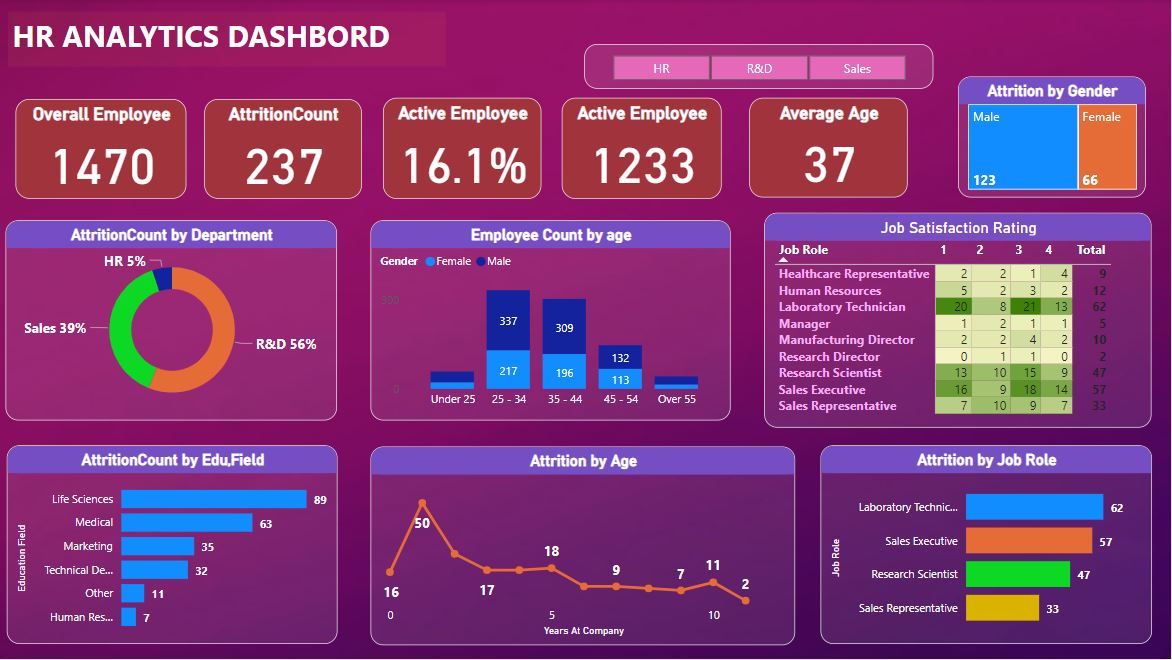

This screenshot's page, from the dashboard's own definition file:
{"tool":"powerbi","page":{"name":"Page 1","canvas":[1280,720],"ordinal":0},"visuals":[{"type":"card","title":"Overall Employee","fields":{"Values":["Sum(HR data.Employee Count)"]},"box":[19.1,109.1,186.8,109.1],"z":0},{"type":"card","title":"AttritionCount","fields":{"Values":["Sum(HR data.AttritionCount)"]},"box":[225,109.1,171.8,109.1],"z":1000},{"type":"card","title":"Active Employee","fields":{"Values":["HR data.Attrition Rate"]},"box":[419.9,107.7,173.2,110.4],"z":2000},{"type":"card","title":"Active Employee","fields":{"Values":["HR data.Active Employee"]},"box":[614.9,107.7,174.5,110.4],"z":3000},{"type":"card","title":"Average Age","fields":{"Values":["Avg(HR data.Age)"]},"box":[819.4,107.7,173.2,109.1],"z":4000},{"type":"donutChart","title":" AttritionCount by Department","fields":{"Category":["HR data.Department"],"Y":["Sum(HR data.AttritionCount)"]},"box":[8.2,233.1,361.3,218.2],"z":5000},{"type":"columnChart","title":"Employee Count by age ","fields":{"Category":["HR data.CF_age band"],"Series":["HR data.Gender"],"Y":["Sum(HR data.Employee Count)"]},"box":[406.3,241.3,392.7,218.2],"z":6000},{"type":"pivotTable","title":"Job Satisfaction Rating","fields":{"Rows":["HR data.Job Role"],"Columns":["HR data.Job Satisfaction"],"Values":["Sum(HR data.AttritionCount)"]},"box":[835.8,233.1,422.7,234.5],"z":7000},{"type":"barChart","title":" AttritionCount by Edu,Field","fields":{"Category":["HR data.Education Field"],"Y":["Sum(HR data.AttritionCount)"]},"box":[9.6,487.1,360.9,216.8],"z":8000},{"type":"barChart","title":" Attrition by Job Role","fields":{"Y":["Sum(HR data.AttritionCount)"],"Category":["HR data.Job Role"]},"box":[897.1,486.8,361.3,216.8],"z":9000},{"type":"lineChart","title":" Attrition by Age","fields":{"Category":["HR data.Years At Company"],"Y":["Sum(HR data.AttritionCount)"]},"box":[406.3,488.1,463.6,216.8],"z":10000},{"type":"treemap","title":" Attrition by Gender","fields":{"Group":["HR data.Gender"],"Values":["Sum(HR data.AttritionCount)"]},"box":[1047.1,84.5,204.5,132.3],"z":11000},{"type":"slicer","fields":{"Values":["HR data.Department"]},"box":[639.5,49.1,380.4,49.1],"z":12000},{"type":"textbox","box":[10.9,13.6,477.2,60],"z":12005}]}

Visuals, with their boxes in screenshot pixels (x1, y1, x2, y2), scaled from the page's 1280x720 canvas onto the 1172x660 screenshot:
"Overall Employee" card: select_region(17, 100, 189, 200)
"AttritionCount" card: select_region(206, 100, 363, 200)
"Active Employee" card: select_region(384, 99, 543, 200)
"Active Employee" card: select_region(563, 99, 723, 200)
"Average Age" card: select_region(750, 99, 909, 199)
" AttritionCount by Department" donutChart: select_region(8, 214, 338, 414)
"Employee Count by age " columnChart: select_region(372, 221, 732, 421)
"Job Satisfaction Rating" pivotTable: select_region(765, 214, 1152, 429)
" AttritionCount by Edu,Field" barChart: select_region(9, 447, 339, 645)
" Attrition by Job Role" barChart: select_region(821, 446, 1152, 645)
" Attrition by Age" lineChart: select_region(372, 447, 797, 646)
" Attrition by Gender" treemap: select_region(959, 77, 1146, 199)
slicer - HR data.Department: select_region(586, 45, 934, 90)
textbox: select_region(10, 12, 447, 67)
